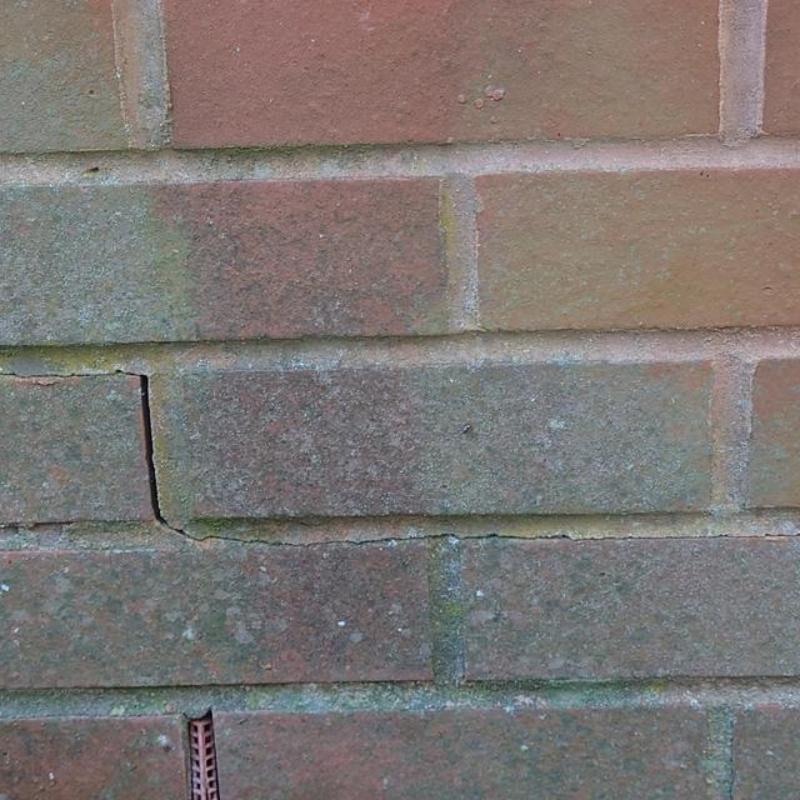pothole: (140, 375, 573, 548), (571, 532, 799, 541), (0, 369, 140, 379)
